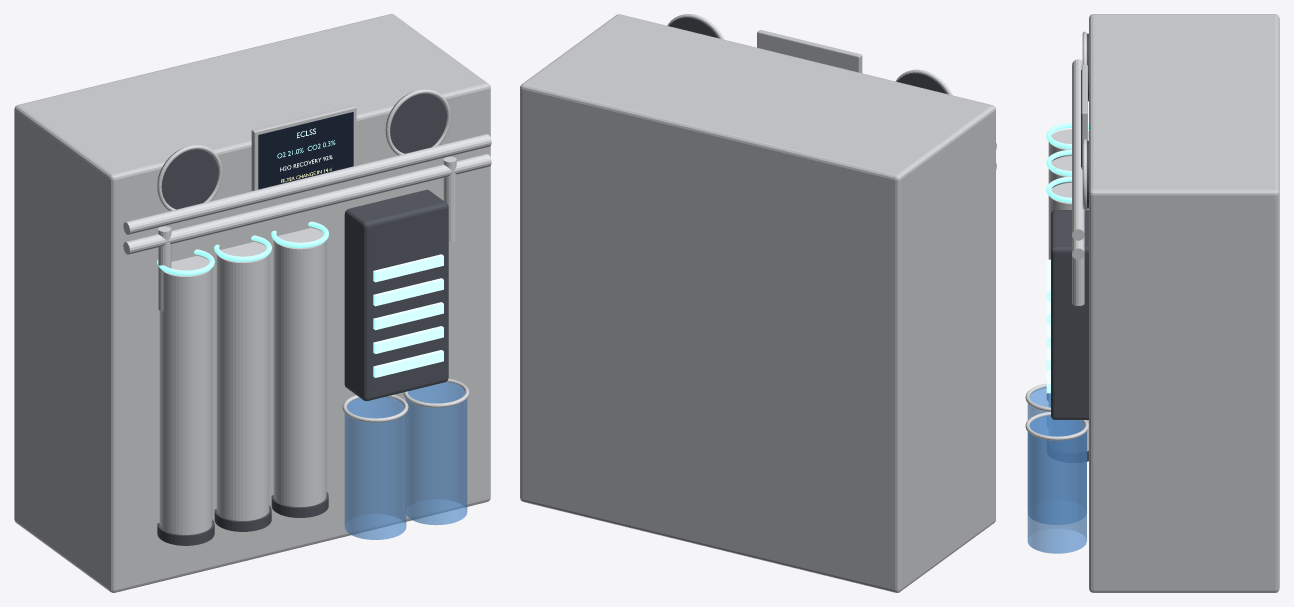
Rendered from eclss_core.glb.
The picture shows the model from 3 angles, left to right: view 1: azimuth 30°, elevation 25°; view 2: azimuth 150°, elevation 25°; view 3: azimuth 270°, elevation 25°; orthographic projection. The views are drawn at different scales.
Visible parts, largest first — view 1: ECLSS_Cabinet, O2_Generator, CO2_Scrubber.001, CO2_Scrubber.002, CO2_Scrubber, Water_Tank, Water_Tank.001, ECLSS_Display_Panel, Manifold_Pipe.001, Manifold_Pipe, Fan_Grille, Fan_Grille.001 (+13 smaller); view 2: ECLSS_Cabinet, ECLSS_Display_Bezel; view 3: ECLSS_Cabinet, Water_Tank.001, O2_Generator, Water_Tank, Manifold_Pipe.001, CO2_Scrubber.002, Riser_Pipe.001, ECLSS_Display_Bezel, Tank_Band.001, CO2_Scrubber, CO2_Scrubber.001, Fan_Ring.001.
Part boxes in pixels (x1=…): ECLSS_Cabinet: x1=14, y1=14, x2=490, y2=592; O2_Generator: x1=344, y1=189, x2=448, y2=400; CO2_Scrubber.001: x1=216, y1=242, x2=269, y2=520; CO2_Scrubber.002: x1=273, y1=228, x2=326, y2=507; CO2_Scrubber: x1=159, y1=256, x2=212, y2=534; Water_Tank: x1=344, y1=396, x2=406, y2=539; Water_Tank.001: x1=405, y1=381, x2=467, y2=525; ECLSS_Display_Panel: x1=258, y1=112, x2=353, y2=189; Manifold_Pipe.001: x1=123, y1=134, x2=491, y2=234; Manifold_Pipe: x1=123, y1=154, x2=491, y2=254; Fan_Grille: x1=157, y1=149, x2=218, y2=209; Fan_Grille.001: x1=385, y1=93, x2=446, y2=153; ECLSS_Cabinet: x1=520, y1=14, x2=995, y2=592; ECLSS_Display_Bezel: x1=757, y1=29, x2=862, y2=73; ECLSS_Cabinet: x1=1089, y1=14, x2=1279, y2=592; Water_Tank.001: x1=1027, y1=415, x2=1086, y2=553; O2_Generator: x1=1051, y1=210, x2=1088, y2=419; Water_Tank: x1=1027, y1=387, x2=1086, y2=524; Manifold_Pipe.001: x1=1072, y1=59, x2=1084, y2=240; CO2_Scrubber.002: x1=1048, y1=183, x2=1088, y2=450; Riser_Pipe.001: x1=1072, y1=235, x2=1084, y2=305; ECLSS_Display_Bezel: x1=1081, y1=65, x2=1087, y2=169; Tank_Band.001: x1=1025, y1=411, x2=1088, y2=440; CO2_Scrubber: x1=1048, y1=129, x2=1088, y2=160; CO2_Scrubber.001: x1=1048, y1=156, x2=1071, y2=187; Fan_Ring.001: x1=1082, y1=139, x2=1086, y2=210.
Size of the model in its own units: 2 by 2.17 by 1.2.
